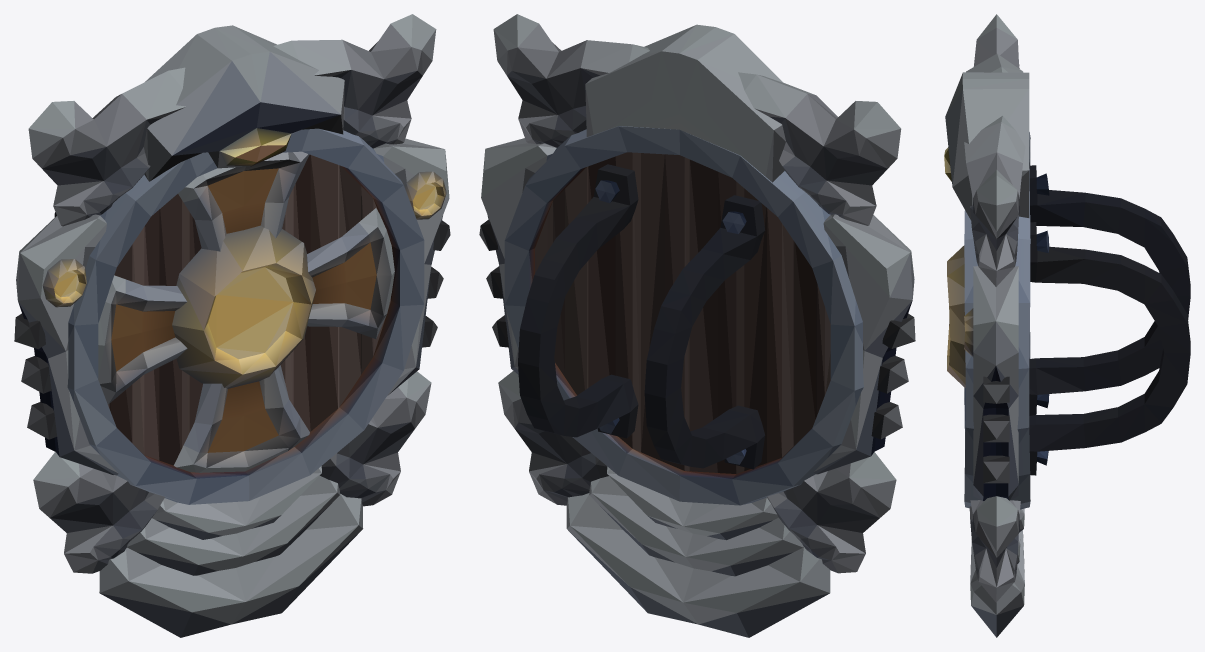
The model's file is weapon_shield_silver_5.fbx.
The picture shows the model from 3 angles, left to right: view 1: azimuth 30°, elevation 25°; view 2: azimuth 150°, elevation 25°; view 3: azimuth 270°, elevation 25°; orthographic projection. The views are drawn at different scales.
Parts seen in each view (by area): view 1: weapon_shield_silver_5; view 2: weapon_shield_silver_5; view 3: weapon_shield_silver_5.
Part boxes in pixels (box(x1,y1,x2,y2)): weapon_shield_silver_5: box(14, 14, 450, 637); weapon_shield_silver_5: box(479, 14, 915, 637); weapon_shield_silver_5: box(944, 14, 1190, 637).
Bounding box in the file's own units: 0.8146 × 1.04 × 0.4345.
